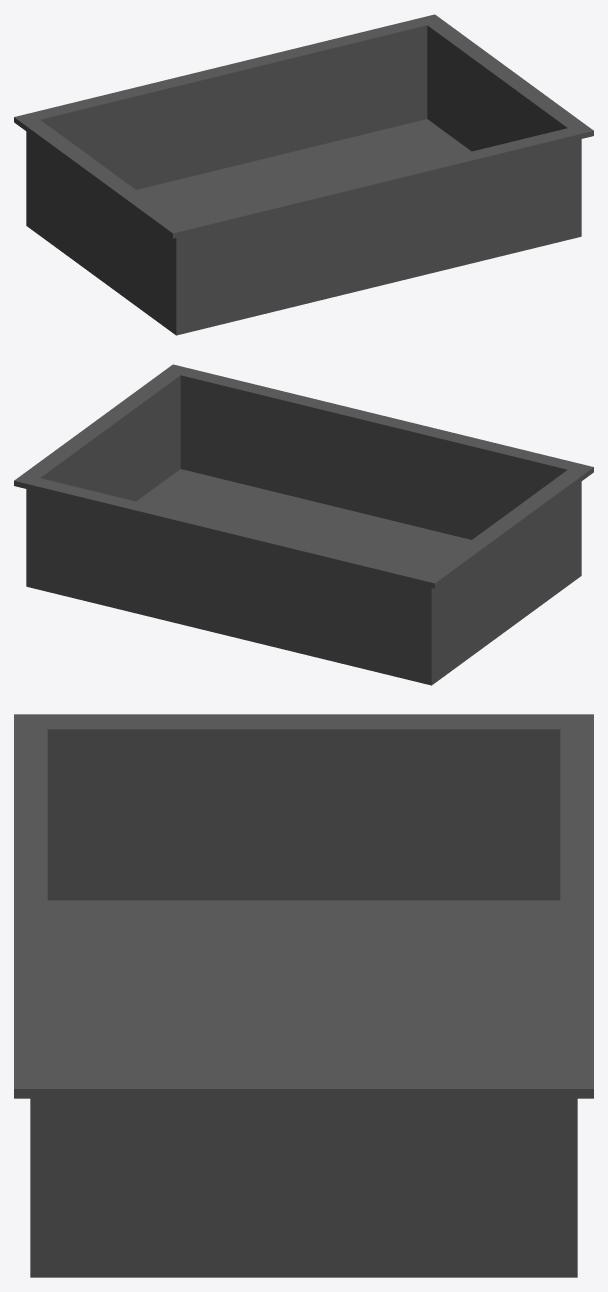
File: tray1.FBX
3 renders of one model, top to bottom at view 1: azimuth 30°, elevation 25°; view 2: azimuth 150°, elevation 25°; view 3: azimuth 270°, elevation 25°, orthographic. The views are drawn at different scales.
Parts seen in each view (by area): view 1: tray1; view 2: tray1; view 3: tray1.
Part boxes in pixels (bbox=[...]): tray1: bbox=[14, 14, 593, 335]; tray1: bbox=[14, 364, 593, 685]; tray1: bbox=[14, 714, 593, 1277].
Bounding box in the file's own units: 8.82 × 5.77 × 2.15.
